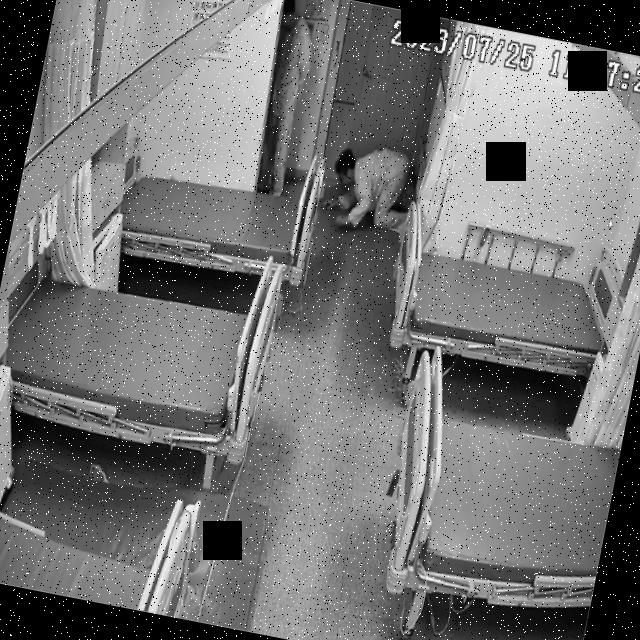bed: (371, 343, 634, 625), (0, 259, 278, 459), (379, 227, 631, 388), (114, 154, 318, 286)
fall: (318, 138, 426, 248)
patient: (245, 0, 322, 196), (318, 142, 425, 248)
stand: (246, 0, 322, 195)
